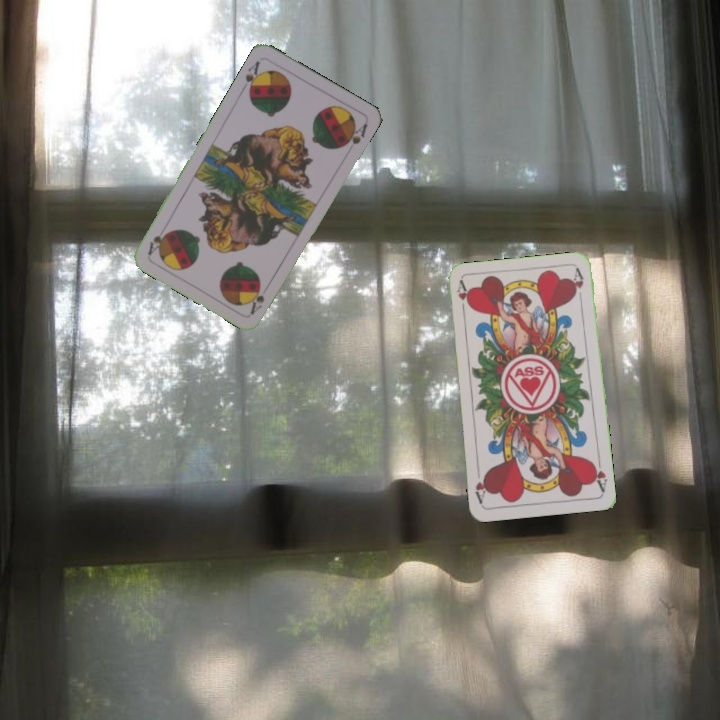HA: (588, 454, 610, 494), (452, 278, 471, 318)
SA: (241, 57, 265, 96), (246, 282, 267, 317)
